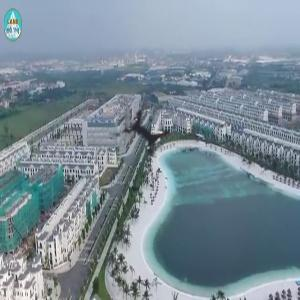drone: (93, 79, 197, 183)
